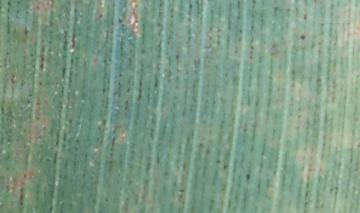tarspot: (38, 44, 47, 72), (93, 13, 103, 23), (22, 24, 29, 36), (298, 33, 307, 42), (175, 188, 187, 194), (245, 172, 252, 182), (213, 156, 221, 164), (204, 147, 210, 157), (162, 170, 169, 177), (174, 53, 180, 61), (198, 141, 204, 148), (222, 165, 228, 170)
